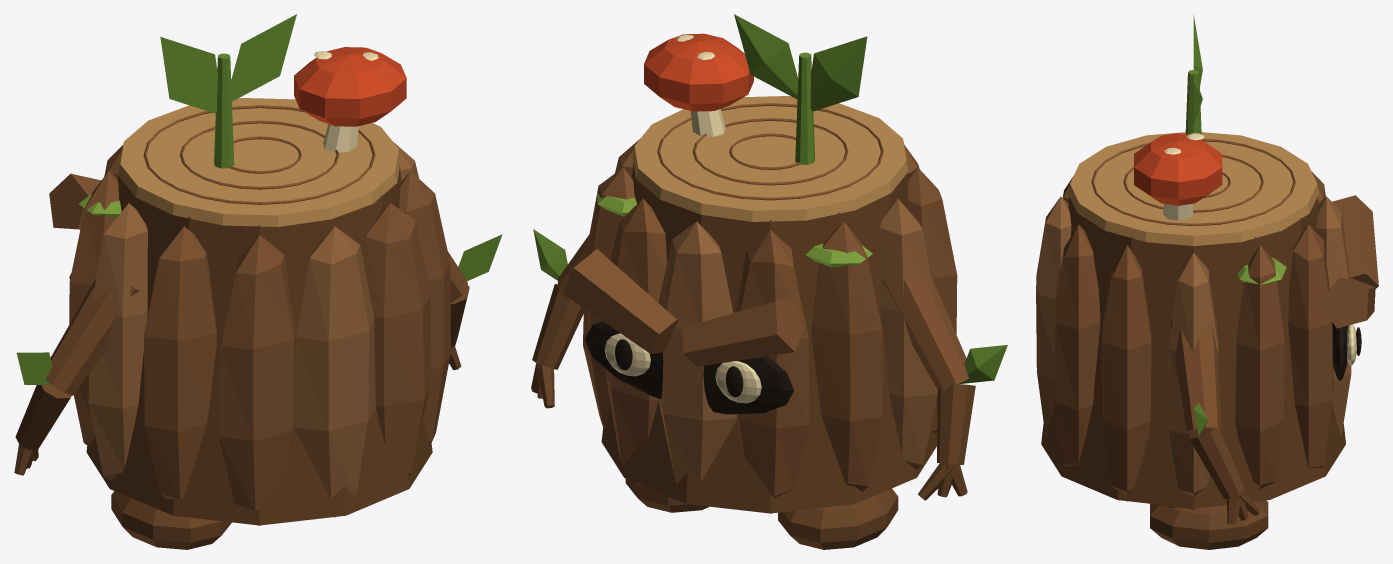
File: Penkun.obj
The picture shows the model from 3 angles, left to right: view 1: azimuth 30°, elevation 25°; view 2: azimuth 150°, elevation 25°; view 3: azimuth 270°, elevation 25°; orthographic projection. The views are drawn at different scales.
Parts seen in each view (by area): view 1: trunk, cut_surface, bark_panel_0, bark_panel_11, bark_panel_10, bark_panel_1, bark_panel_9, mushroom_cap, sprout_leaf, bark_panel_2, arm, bark_panel_8 (+8 smaller); view 2: trunk, cut_surface, bark_panel_8, bark_panel_6, angry_brow, bark_panel_7, bark_panel_9, mushroom_cap, bark_panel_5, sprout_leaf, foot, arm (+12 smaller); view 3: trunk, cut_surface, bark_panel_2, bark_panel_4, bark_panel_1, bark_panel_5, bark_panel_3, mushroom_cap, angry_brow, bark_panel_0, foot, arm (+9 smaller).
Boxes of the visible parts, x1,y1,x2,y2 form: trunk: (86,166,432,525); cut_surface: (118,98,400,226); bark_panel_0: (294,226,375,517); bark_panel_11: (218,235,296,525); bark_panel_10: (144,226,216,517); bark_panel_1: (365,203,430,475); bark_panel_9: (88,203,147,480); mushroom_cap: (294,47,406,126); sprout_leaf: (160,14,296,113); bark_panel_2: (399,171,450,444); arm: (45,251,467,395); bark_panel_8: (69,171,119,447); trunk: (601,162,937,513); cut_surface: (632,96,908,221); bark_panel_8: (811,221,882,505); bark_panel_6: (658,221,736,483); angry_brow: (563,249,803,366); bark_panel_7: (735,230,809,513); bark_panel_9: (880,198,937,469); mushroom_cap: (644,33,753,111); bark_panel_5: (605,199,666,464); sprout_leaf: (734,14,867,111); foot: (625,479,898,549); arm: (557,235,969,390); trunk: (1041,196,1345,508); cut_surface: (1068,132,1319,245); bark_panel_2: (1102,245,1151,501); bark_panel_4: (1235,245,1284,501); bark_panel_1: (1053,224,1100,466); bark_panel_5: (1288,224,1333,468); bark_panel_3: (1168,252,1218,508); mushroom_cap: (1134,133,1222,205); angry_brow: (1319,195,1378,328); bark_panel_0: (1036,196,1071,436); foot: (1150,500,1268,549); arm: (1170,316,1221,433).
Bounding box in the file's own units: 4.8 × 4.85 × 3.33.
